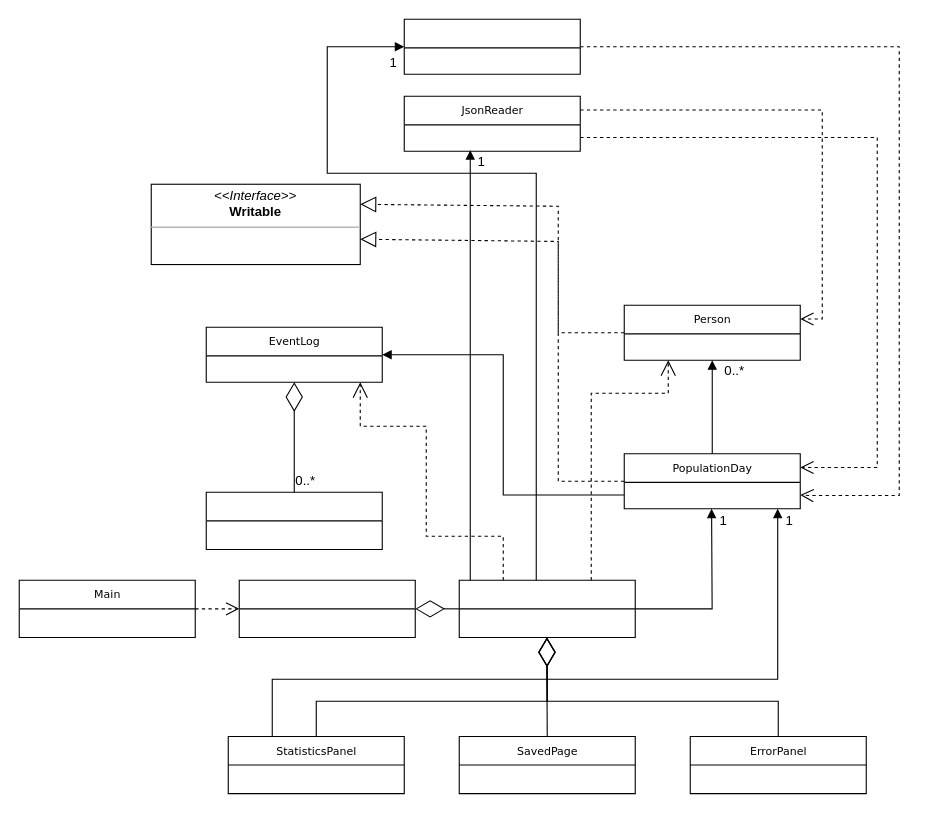
The diagram is 932 pixels wide and 813 high, and some of its shapes have lost their labels. The centre of each missing label's shape, as x and y in pixels:
"Event" belongs at (x=293, y=520).
"JsonWriter" belongs at (x=491, y=46).
"SimulationPanel" belongs at (x=546, y=608).
"SplashScreenPanel" belongs at (x=326, y=608).
